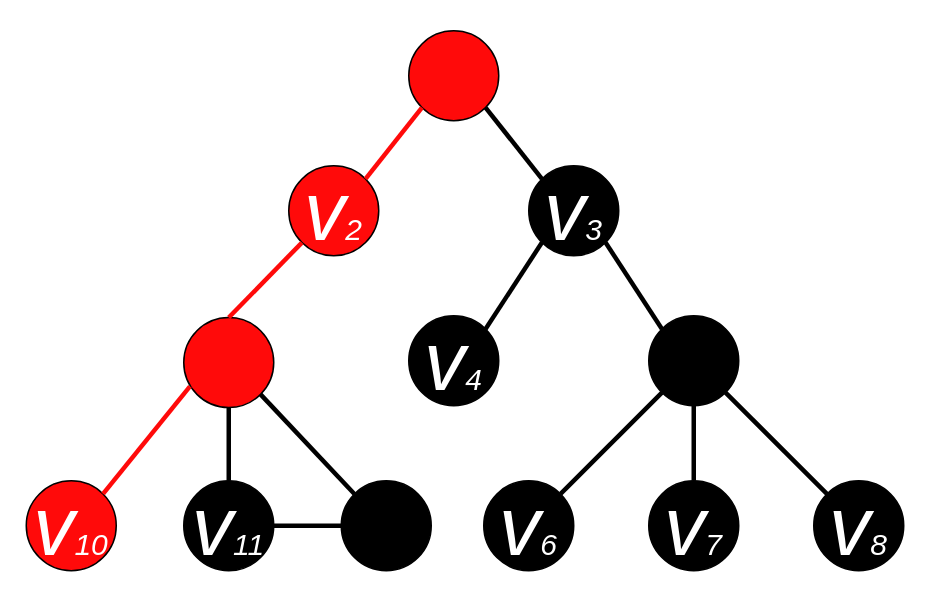
Some shapes in this 930 by 602 pixel diagram are drawn without their labels. Here are the shapes that lost their labels. From the top down, the centre of each, then its label:
point 453,75: v 1
point 228,362: v 9
point 693,360: v 5
point 385,525: v 12
